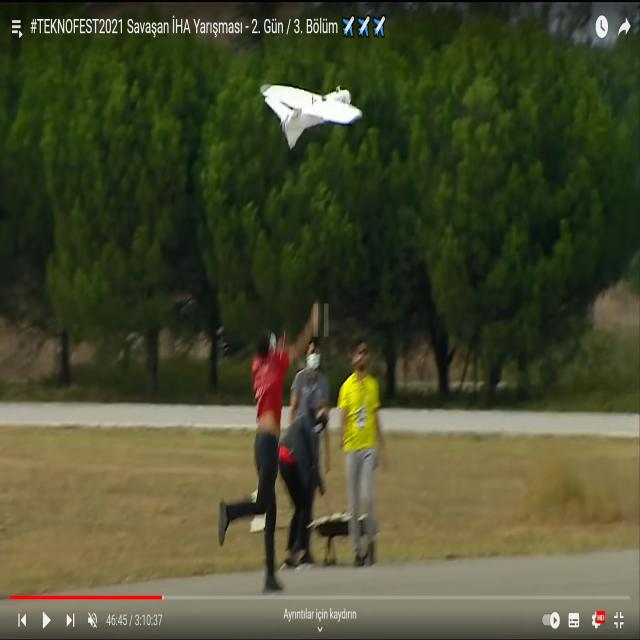iha: (291, 49, 331, 51)
